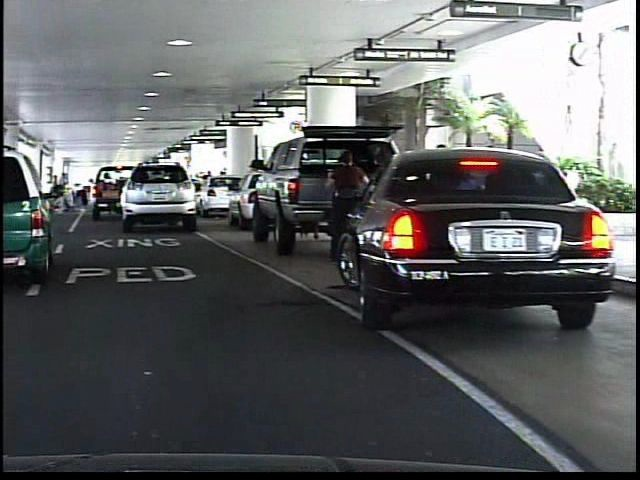person: (319, 149, 371, 258)
